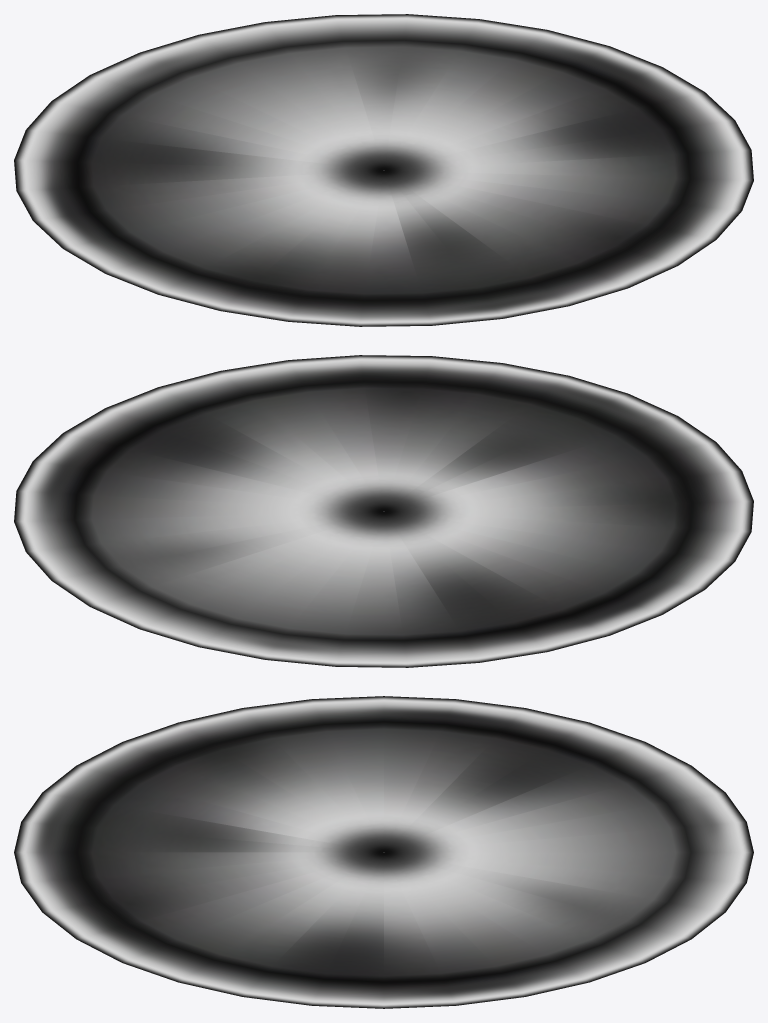
The model's file is Circle2_nethole.fbx.
The picture shows the model from 3 angles, top to bottom: view 1: azimuth 30°, elevation 25°; view 2: azimuth 150°, elevation 25°; view 3: azimuth 270°, elevation 25°; orthographic projection.
Parts seen in each view (by area): view 1: Circle_nethole; view 2: Circle_nethole; view 3: Circle_nethole.
Part boxes in pixels (box(x1,y1,x2,y2)): Circle_nethole: box(14, 14, 753, 326); Circle_nethole: box(14, 355, 753, 667); Circle_nethole: box(14, 696, 753, 1008).
Bounding box in the file's own units: 442 × 7.2e-05 × 442.
